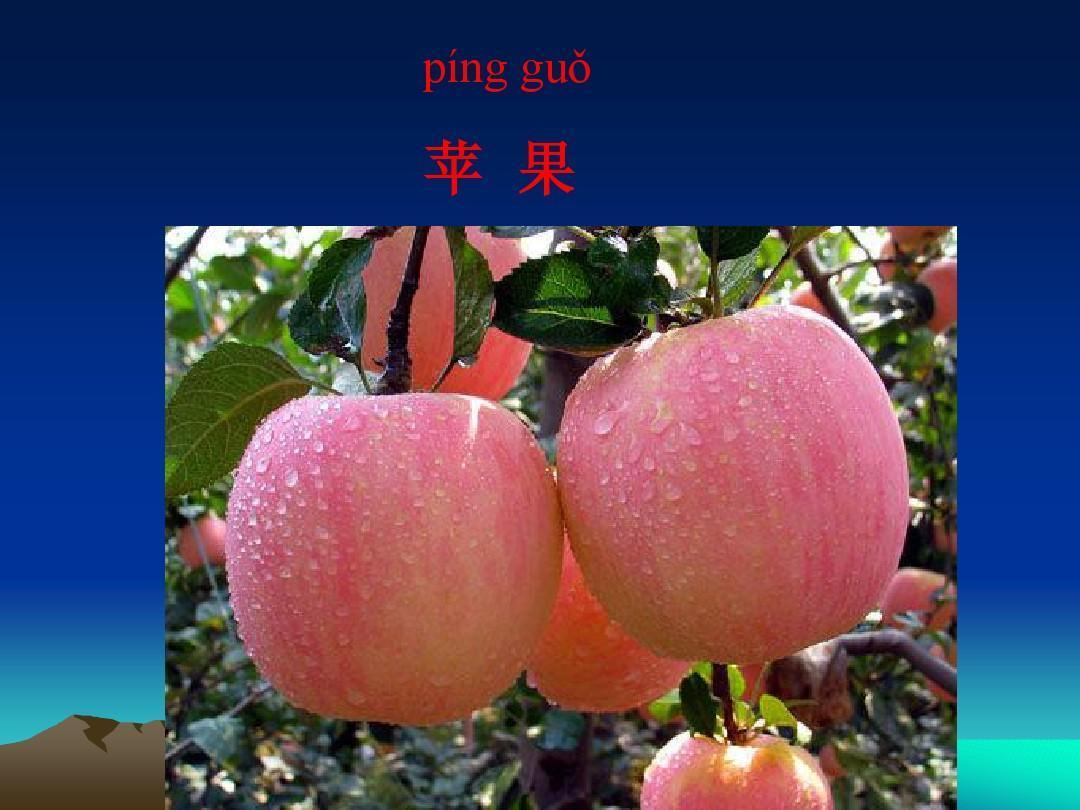apple: (556, 302, 910, 664), (229, 391, 564, 721), (632, 726, 834, 807)
